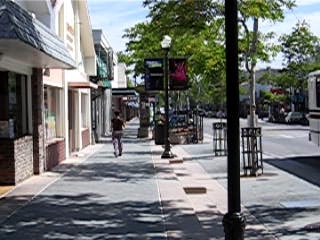person: (110, 109, 125, 160), (109, 109, 124, 160), (111, 109, 126, 160), (110, 108, 125, 159), (110, 110, 125, 161)
target_negative: (128, 63, 310, 153), (49, 147, 238, 177), (256, 181, 295, 230), (236, 29, 245, 166), (221, 91, 252, 110), (282, 147, 284, 180)
